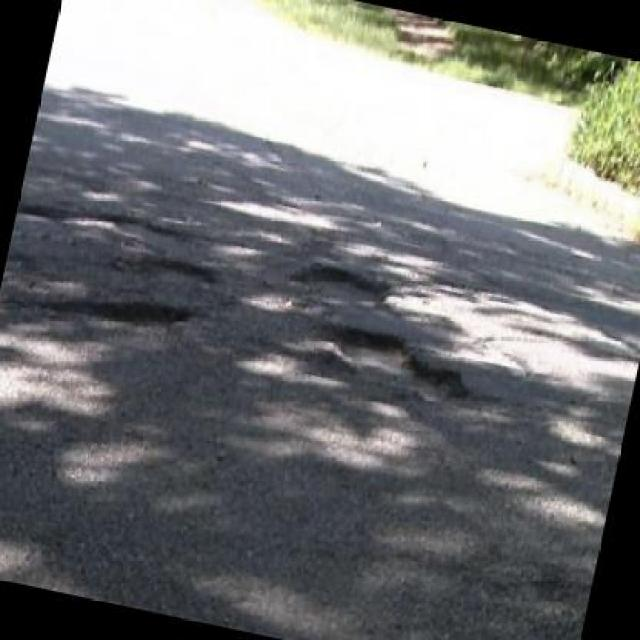pothole1: (319, 314, 479, 408), (88, 284, 195, 342), (289, 253, 397, 304)
